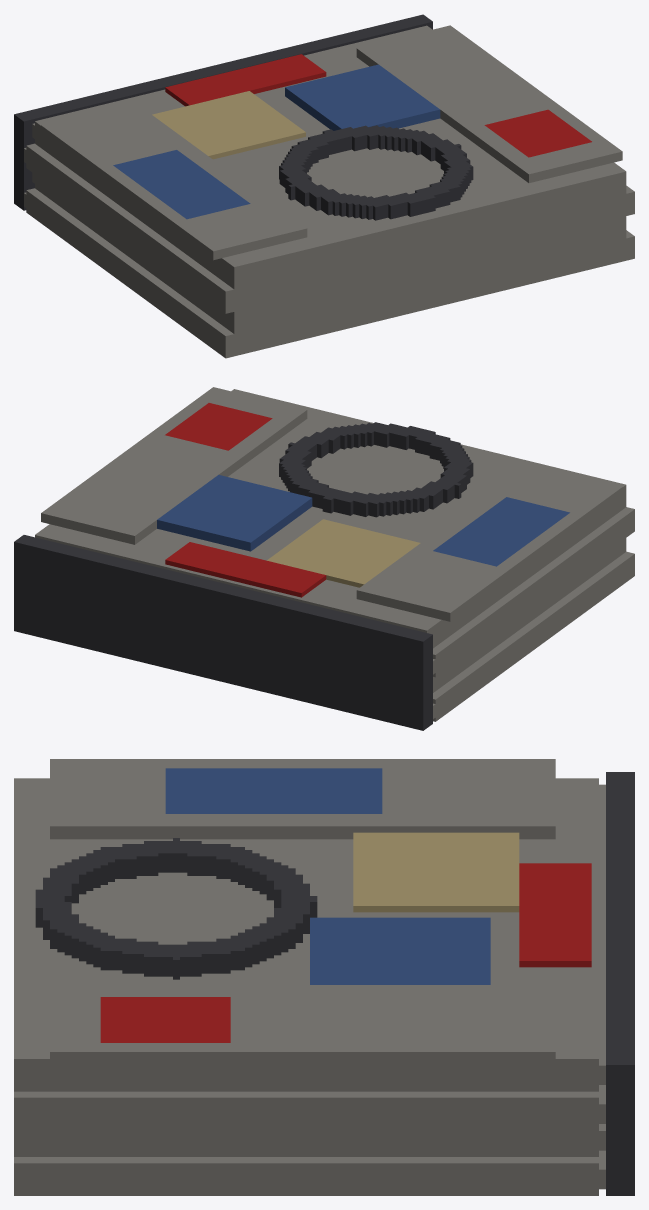
File: cloth_shirt_padded.glb
3 renders of one model, top to bottom at view 1: azimuth 30°, elevation 25°; view 2: azimuth 150°, elevation 25°; view 3: azimuth 270°, elevation 25°, orthographic. The views are drawn at different scales.
Parts seen in each view (by area): view 1: cloth_shirt_padded:compound; view 2: cloth_shirt_padded:compound; view 3: cloth_shirt_padded:compound.
Part boxes in pixels (<box>): cloth_shirt_padded:compound: <box>14,14,634,358</box>; cloth_shirt_padded:compound: <box>14,387,634,730</box>; cloth_shirt_padded:compound: <box>14,759,634,1195</box>.
Size of the model in its own units: 0.384 by 0.092 by 0.344.
